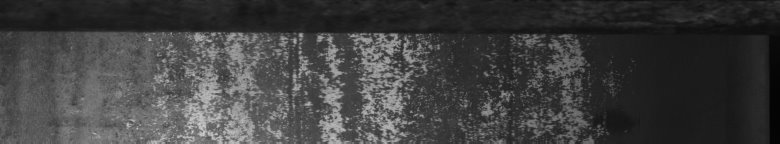kb: (85, 24, 568, 136)
